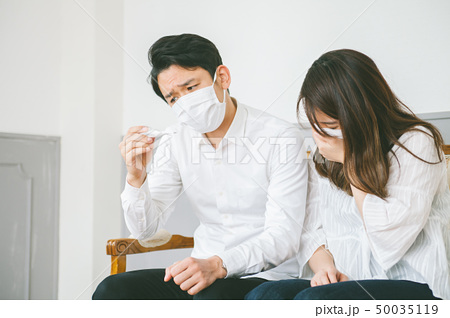mask: (169, 88, 230, 131)
